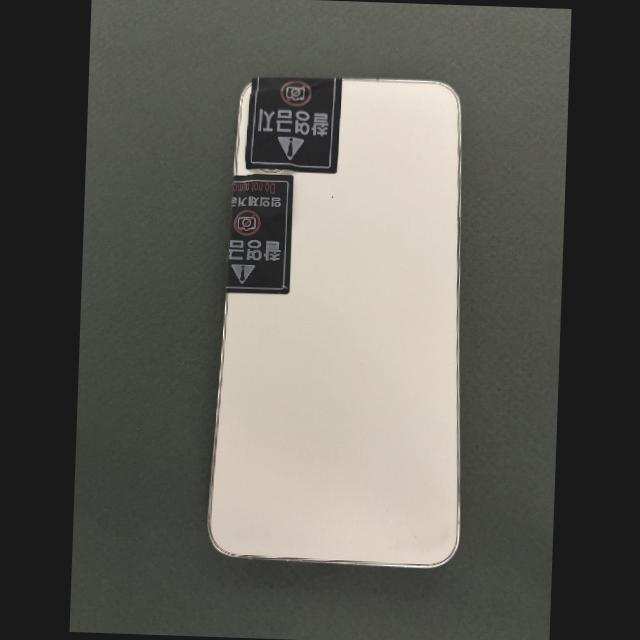lens: (257, 168, 284, 173)
phone: (207, 75, 461, 566)
sticker: (245, 75, 342, 174), (225, 173, 293, 294)
